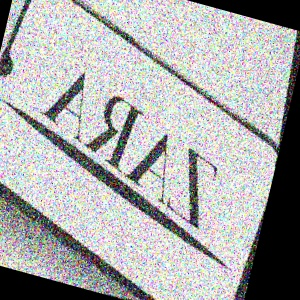zara: (211, 131, 280, 219)
